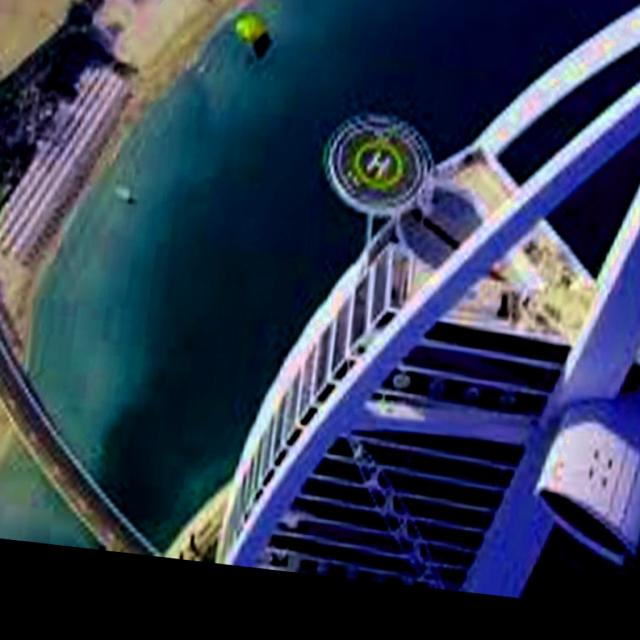helipad: (351, 139, 404, 190)
